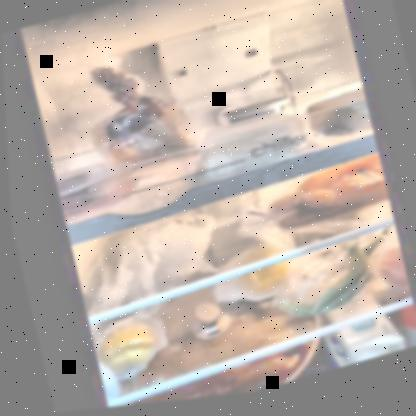butter: (305, 96, 370, 149)
carrot: (265, 163, 386, 235)
cheese: (194, 115, 303, 173)
green_chillies: (267, 250, 375, 330)
lemon: (92, 321, 156, 376), (230, 247, 291, 304)
milk: (331, 322, 401, 373)
salami: (52, 160, 121, 216)
tomato: (372, 253, 405, 298)
yoghurt: (222, 99, 289, 129)
